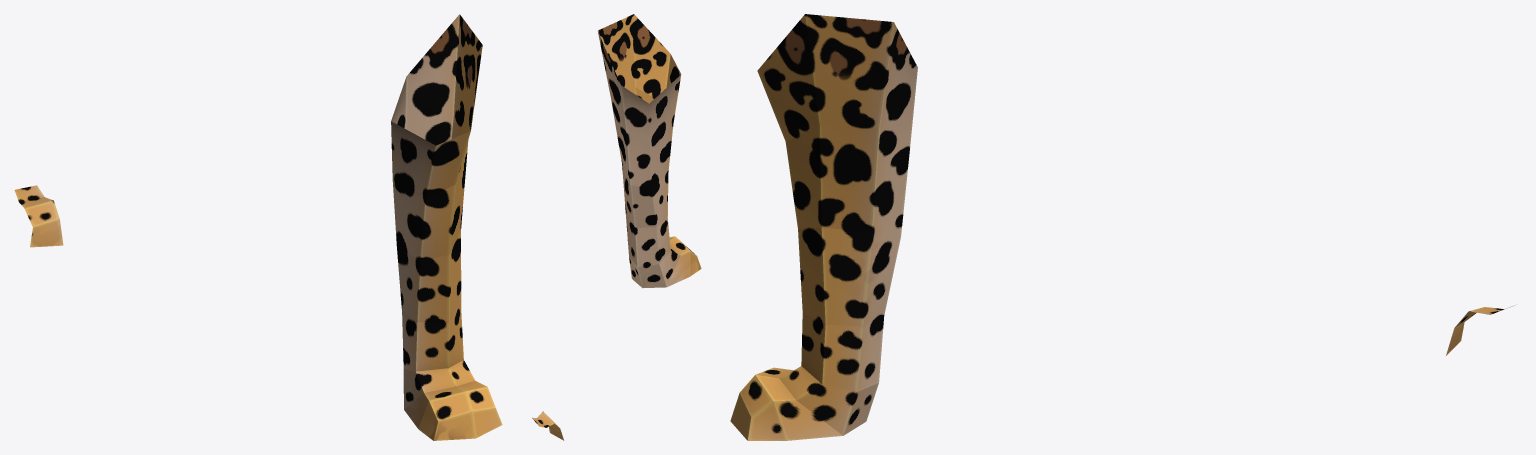
The model's file is PataFIzq.fbx.
The picture shows the model from 3 angles, left to right: view 1: azimuth 30°, elevation 25°; view 2: azimuth 150°, elevation 25°; view 3: azimuth 270°, elevation 25°; orthographic projection. The views are drawn at different scales.
Parts seen in each view (by area): view 1: Jaguar.002; view 2: Jaguar.002; view 3: Jaguar.002.
Part boxes in pixels (x1,y1,x2,y2): Jaguar.002: (14,14,502,440); Jaguar.002: (532,14,701,440); Jaguar.002: (730,14,1514,440).
Size of the model in its own units: 225 by 407 by 679.
